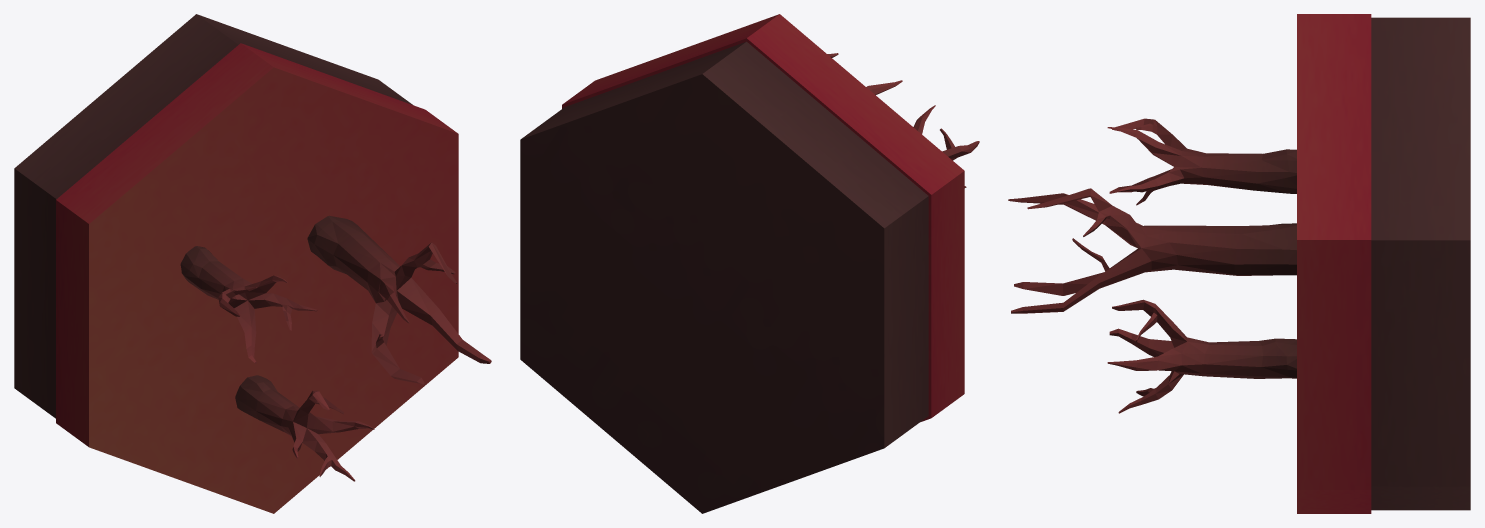
The model's file is LAUBWALD_B_DEAD.fbx.
The picture shows the model from 3 angles, left to right: view 1: azimuth 30°, elevation 25°; view 2: azimuth 150°, elevation 25°; view 3: azimuth 270°, elevation 25°; orthographic projection. The views are drawn at different scales.
Parts seen in each view (by area): view 1: LAUBWALD_B_DEAD; view 2: LAUBWALD_B_DEAD; view 3: LAUBWALD_B_DEAD.
Boxes of the visible parts, x1,y1,x2,y2 form: LAUBWALD_B_DEAD: (14, 14, 491, 513); LAUBWALD_B_DEAD: (520, 14, 979, 513); LAUBWALD_B_DEAD: (1008, 14, 1470, 513).
Size of the model in its own units: 172 by 199 by 167.
